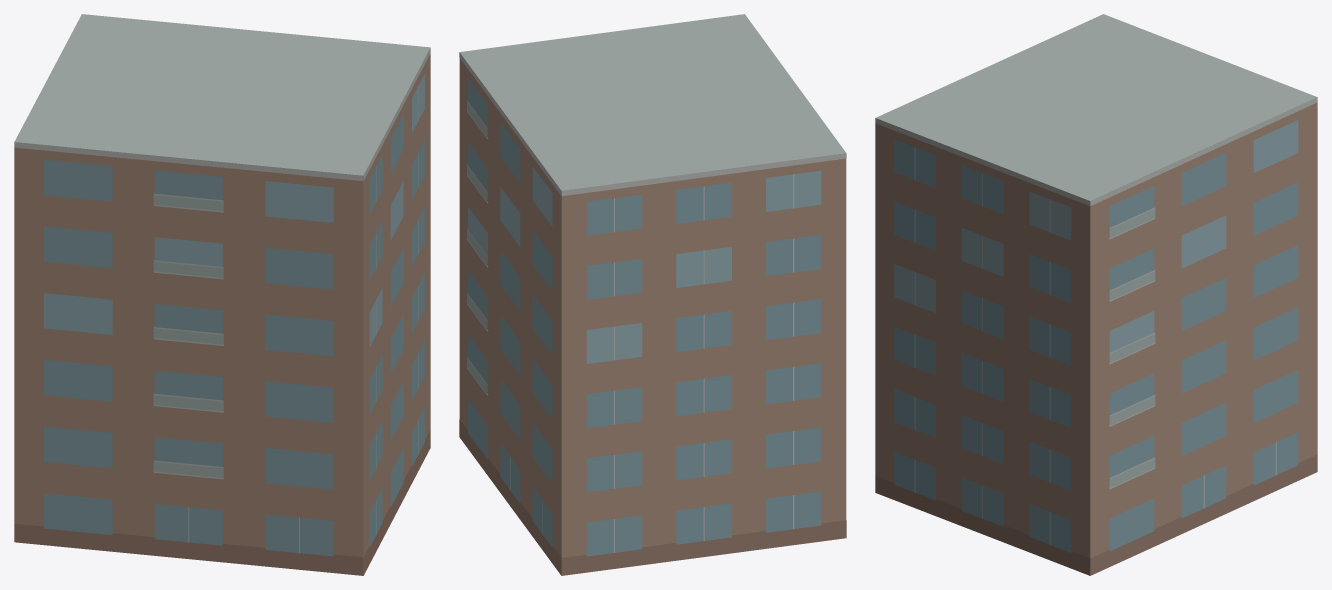
Rendered from survey-upis-32953337.glb.
3 renders of one model, left to right at view 1: azimuth 30°, elevation 25°; view 2: azimuth 150°, elevation 25°; view 3: azimuth 270°, elevation 25°, orthographic. The views are drawn at different scales.
Visible parts, largest first — view 1: survey-upis-32953337.tmp; view 2: survey-upis-32953337.tmp; view 3: survey-upis-32953337.tmp.
Part boxes in pixels (left/top/right/bottom): survey-upis-32953337.tmp: left=14, top=14, right=430, bottom=575; survey-upis-32953337.tmp: left=459, top=14, right=846, bottom=575; survey-upis-32953337.tmp: left=875, top=14, right=1317, bottom=575.
Bounding box in the file's own units: 18.74 × 17.5 × 18.72.
